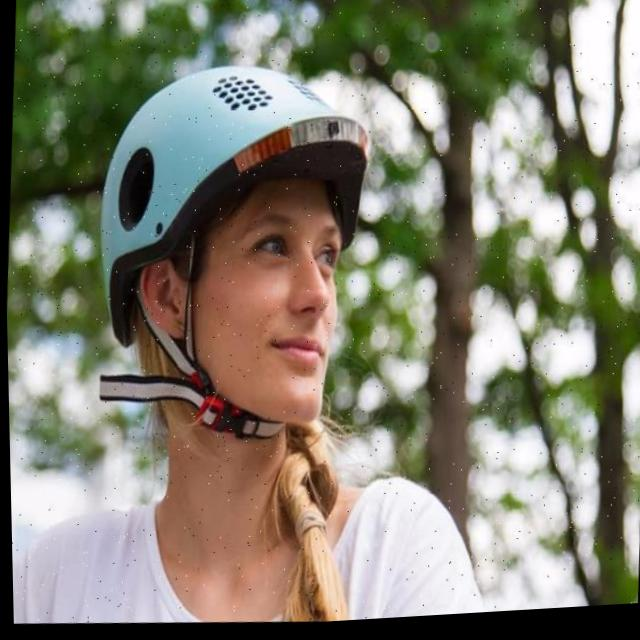helmet: (86, 55, 378, 456)
